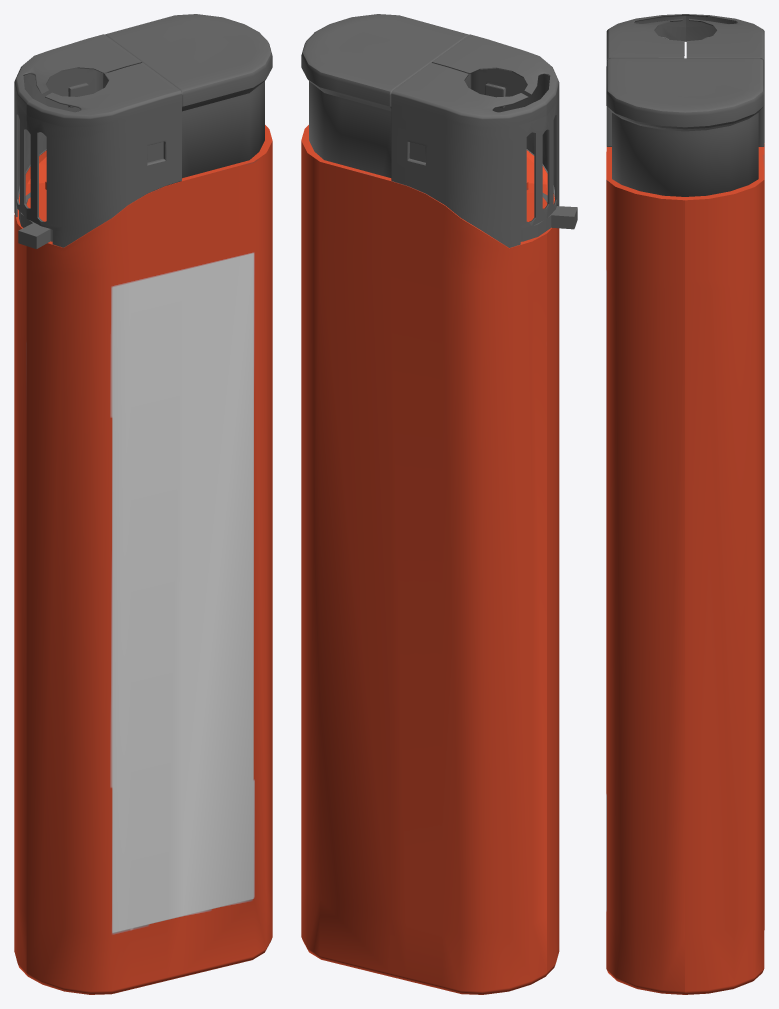
File: 打火机.fbx
3 renders of one model, left to right at view 1: azimuth 30°, elevation 25°; view 2: azimuth 150°, elevation 25°; view 3: azimuth 270°, elevation 25°, orthographic.
Visible parts, largest first — view 1: 打火机; view 2: 打火机; view 3: 打火机.
Part boxes in pixels (x1,y1,x2,y2): 打火机: (14, 14, 272, 994); 打火机: (301, 14, 577, 994); 打火机: (606, 14, 764, 994).
Size of the model in its own units: 4.1 by 13.89 by 2.25.
